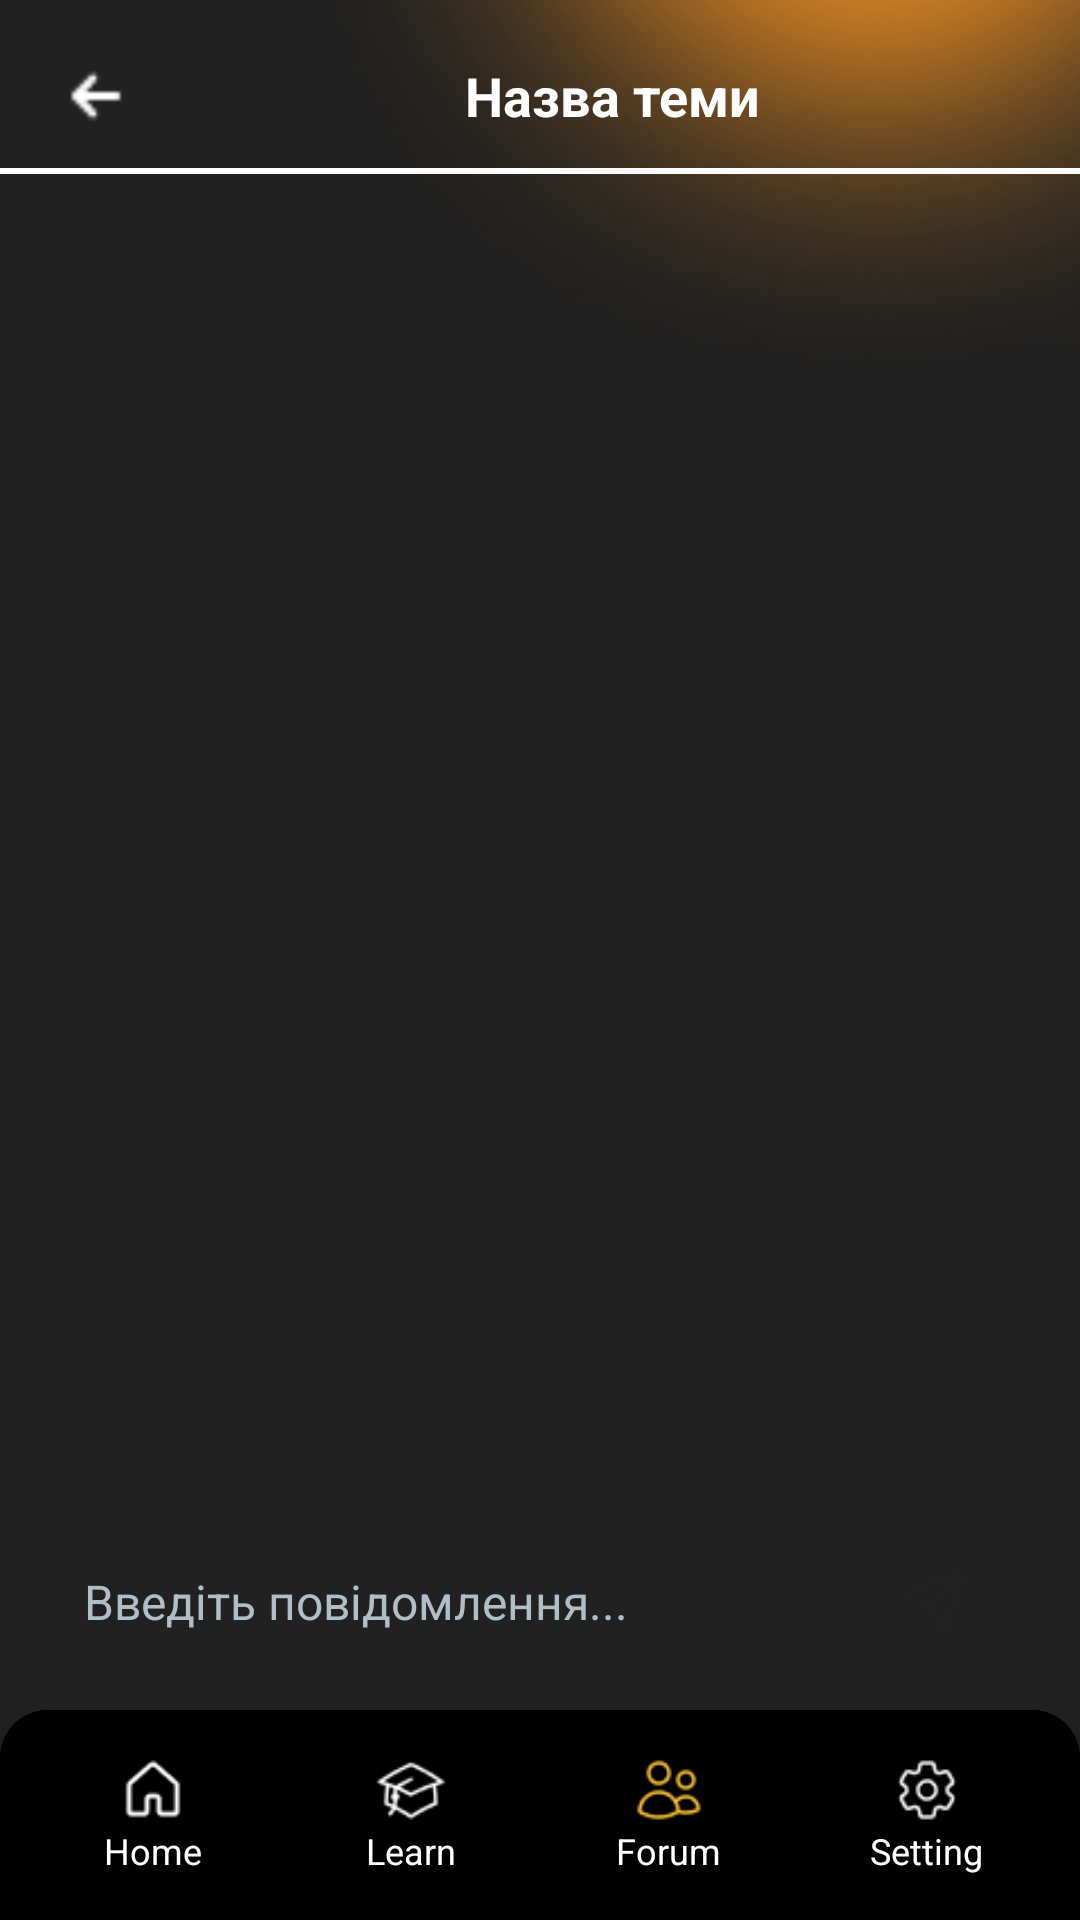

Screen size 1080w x 1920h. Icon name, then its box in pixels as Rect(x1, y1, x2, y2):
Назад: Rect(71, 72, 121, 120)
